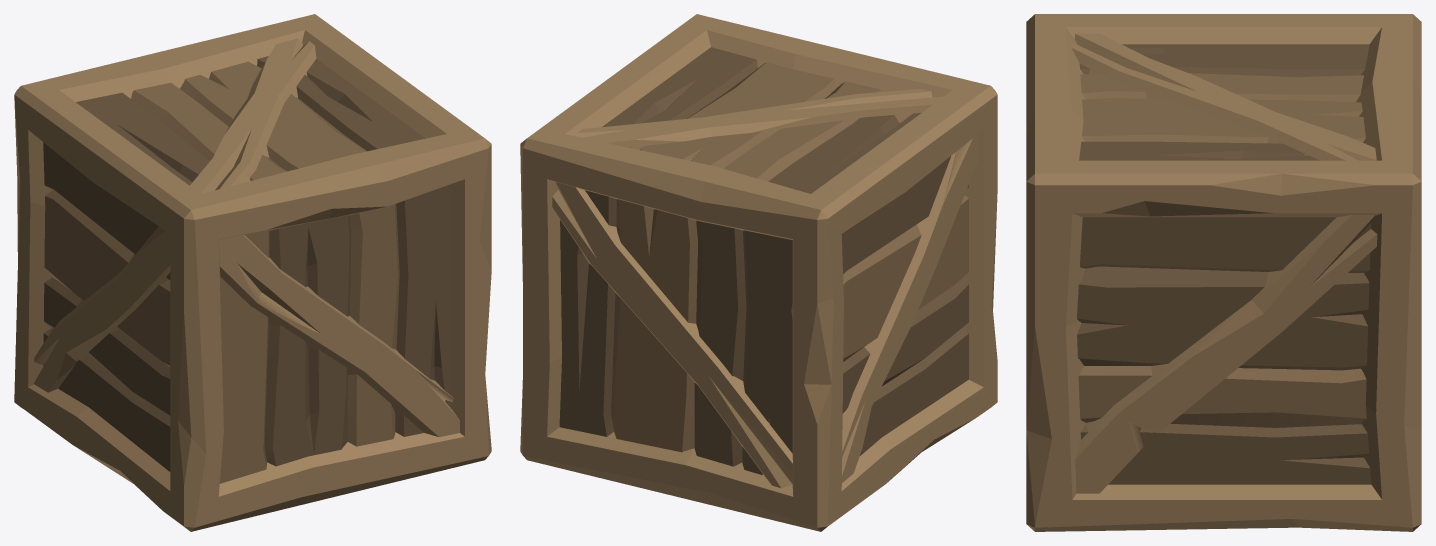
Rendered from Prop_Crate_03.glb.
The picture shows the model from 3 angles, left to right: view 1: azimuth 30°, elevation 25°; view 2: azimuth 150°, elevation 25°; view 3: azimuth 270°, elevation 25°; orthographic projection. The views are drawn at different scales.
Visible parts, largest first — view 1: SM_Gen_Prop_Crate_03; view 2: SM_Gen_Prop_Crate_03; view 3: SM_Gen_Prop_Crate_03.
Part boxes in pixels (x1,y1,x2,y2): SM_Gen_Prop_Crate_03: (14,14,491,531); SM_Gen_Prop_Crate_03: (520,14,997,531); SM_Gen_Prop_Crate_03: (1026,14,1421,531).
Size of the model in its own units: 0.8573 by 0.8573 by 0.8573.
1 material, 1 textured.
